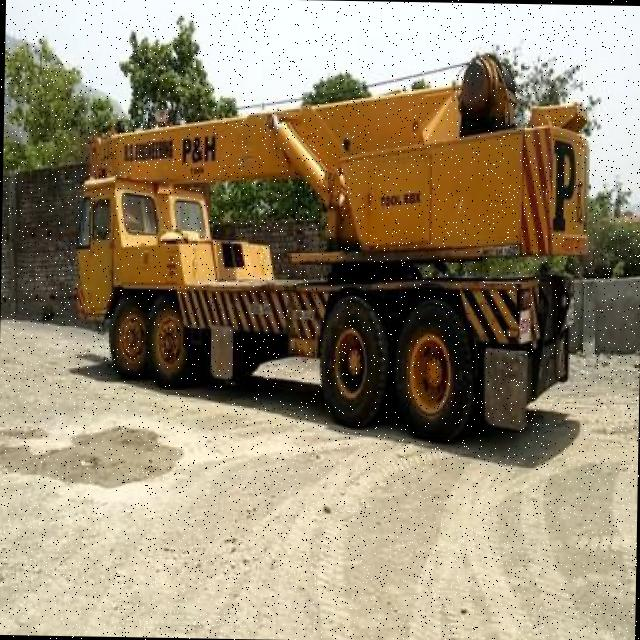Mobile Crane: (70, 45, 590, 434)
